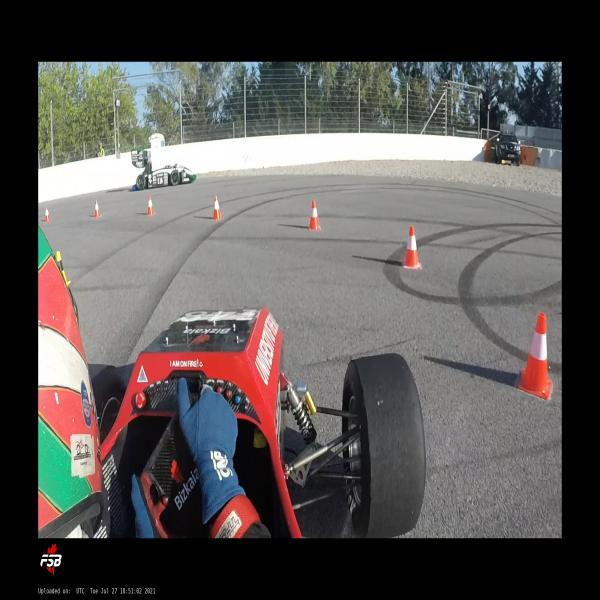orange_cone: (517, 313, 552, 399), (402, 226, 422, 268), (308, 200, 321, 231), (212, 195, 224, 221), (147, 195, 155, 216), (94, 199, 101, 217), (45, 206, 51, 222)
yellow_cone: (56, 251, 70, 285)
